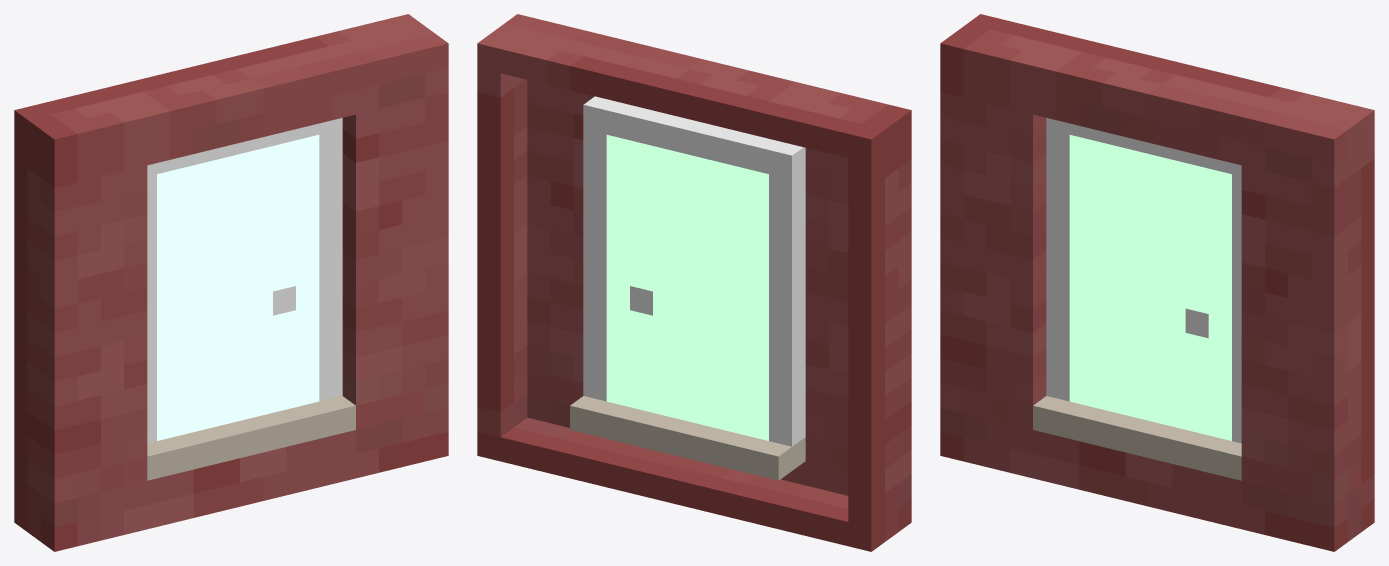
Rendered from palazzo11.glb.
3 renders of one model, left to right at view 1: azimuth 30°, elevation 25°; view 2: azimuth 150°, elevation 25°; view 3: azimuth 330°, elevation 25°, orthographic.
Parts seen in each view (by area): view 1: Porta.Vetro; view 2: Porta.Vetro; view 3: Porta.Vetro.
Part boxes in pixels (x1,y1,x2,y2): Porta.Vetro: (14,14,448,551); Porta.Vetro: (477,14,911,551); Porta.Vetro: (940,14,1374,551).
Size of the model in its own units: 17 by 17 by 3.
Materials: 2 (2 with a texture image).
